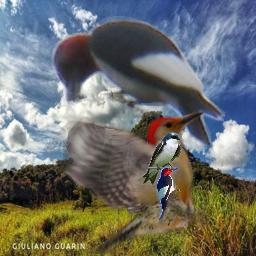Swallow: (141, 132, 181, 185)
Woodpecker: (46, 15, 229, 151), (40, 108, 205, 254), (152, 164, 181, 221)
